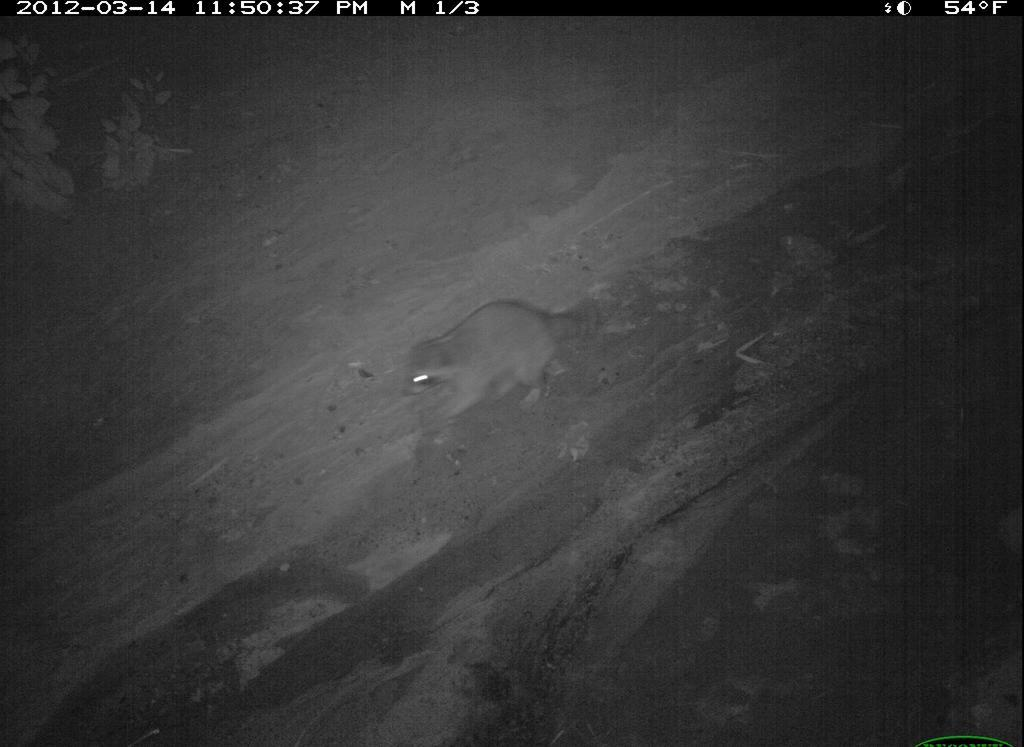raccoon: (790, 592, 1024, 747)
